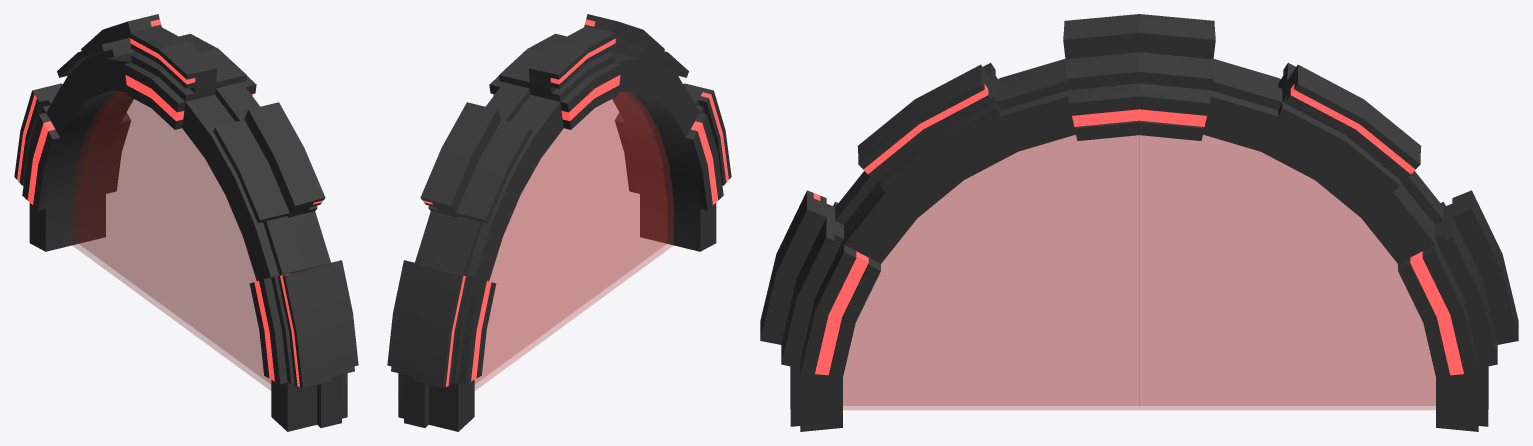
The model's file is RedGateReg.fbx.
The picture shows the model from 3 angles, left to right: view 1: azimuth 30°, elevation 25°; view 2: azimuth 150°, elevation 25°; view 3: azimuth 270°, elevation 25°; orthographic projection. The views are drawn at different scales.
Visible parts, largest first — view 1: gate_ground_red, red; view 2: gate_ground_red, red; view 3: red, gate_ground_red.
Boxes of the visible parts, x1,y1,x2,y2 form: gate_ground_red: (14, 14, 358, 431); red: (72, 91, 271, 390); gate_ground_red: (387, 14, 731, 431); red: (474, 91, 673, 390); red: (843, 135, 1435, 409); gate_ground_red: (760, 14, 1518, 431).
Bounding box in the file's own units: 1.12 × 3.95 × 7.14.
